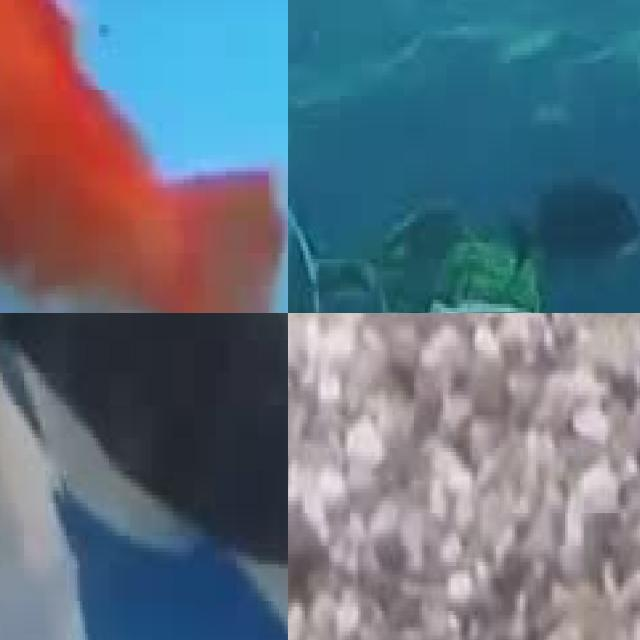fish: (0, 0, 288, 313), (0, 313, 288, 417)
